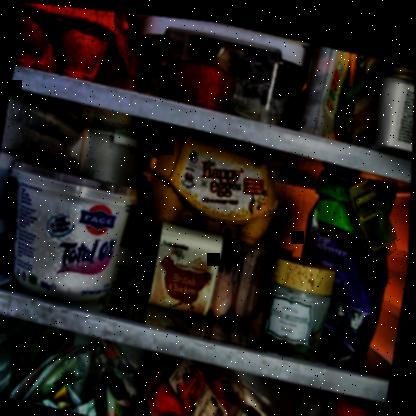cheese: (339, 44, 415, 148)
eggs: (15, 1, 130, 78)
yoghurt: (0, 160, 136, 306)
